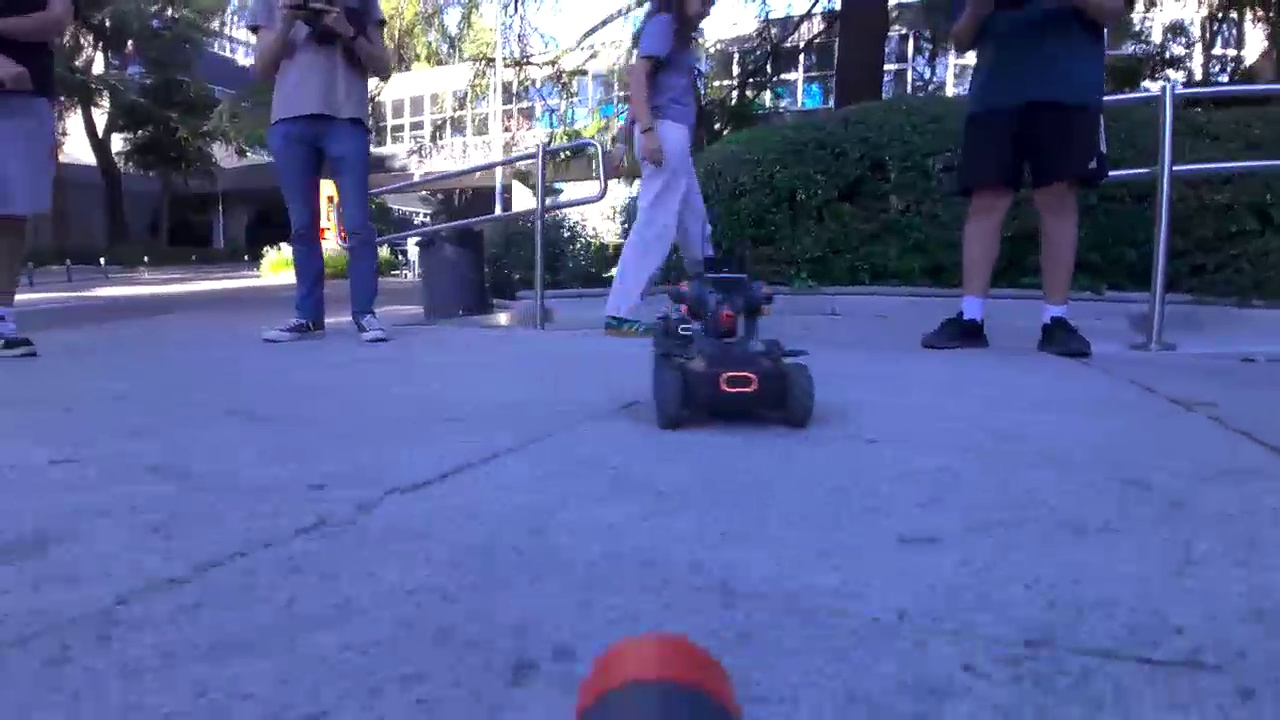robot: (653, 255, 816, 430)
